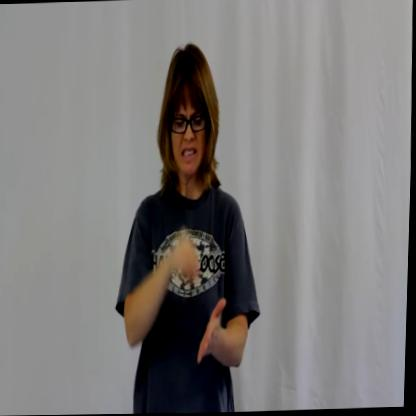Expensive: (110, 36, 271, 415)
